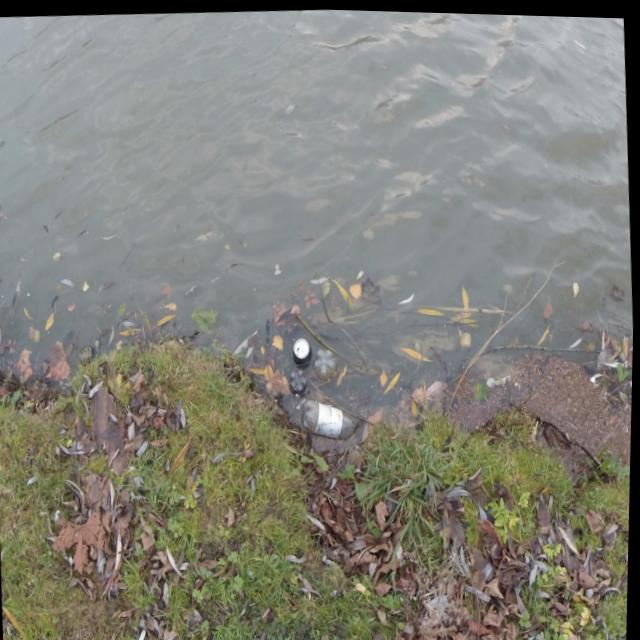Paper: (286, 329, 318, 368)
Plastic: (280, 382, 370, 445)
